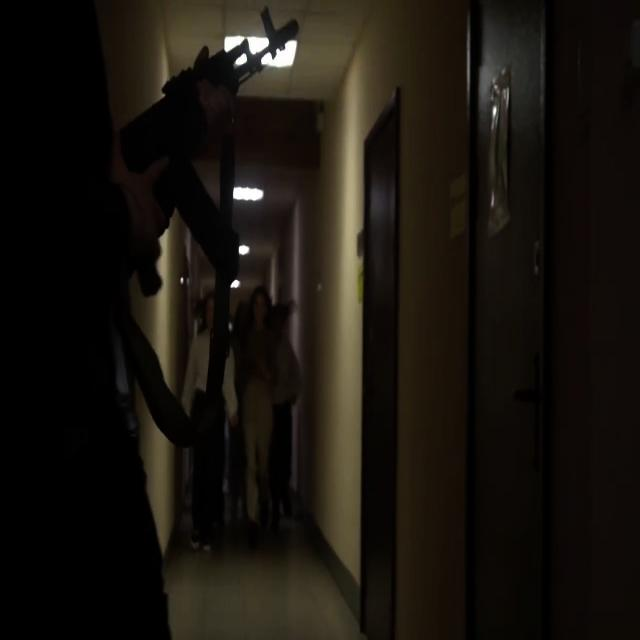gun: (93, 4, 301, 296), (243, 280, 280, 355)
